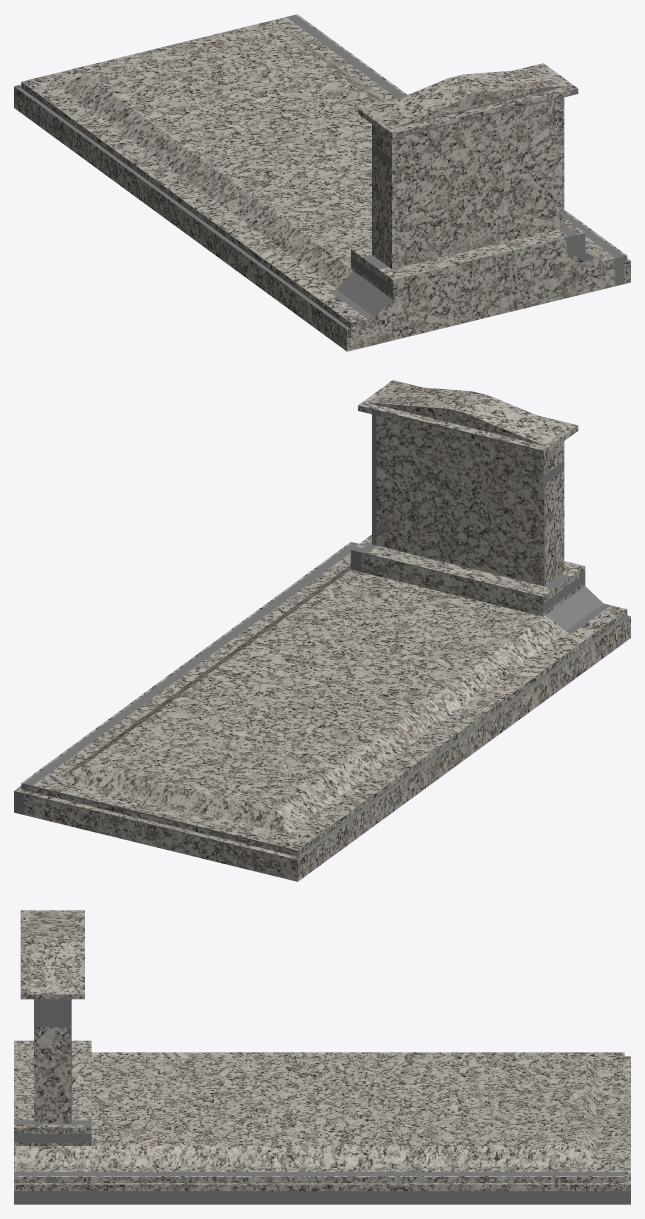
Rendered from grave.obj.
The picture shows the model from 3 angles, top to bottom: view 1: azimuth 30°, elevation 25°; view 2: azimuth 150°, elevation 25°; view 3: azimuth 270°, elevation 25°; orthographic projection. The views are drawn at different scales.
Visible parts, largest first — view 1: grave3; view 2: grave3; view 3: grave3.
Part boxes in pixels (left/top/right/bottom): grave3: left=14, top=14, right=630, bottom=351; grave3: left=14, top=380, right=630, bottom=881; grave3: left=14, top=910, right=630, bottom=1204.
Bounding box in the file's own units: 114 × 83.2 × 232.
Materials: 1 (1 with a texture image).
